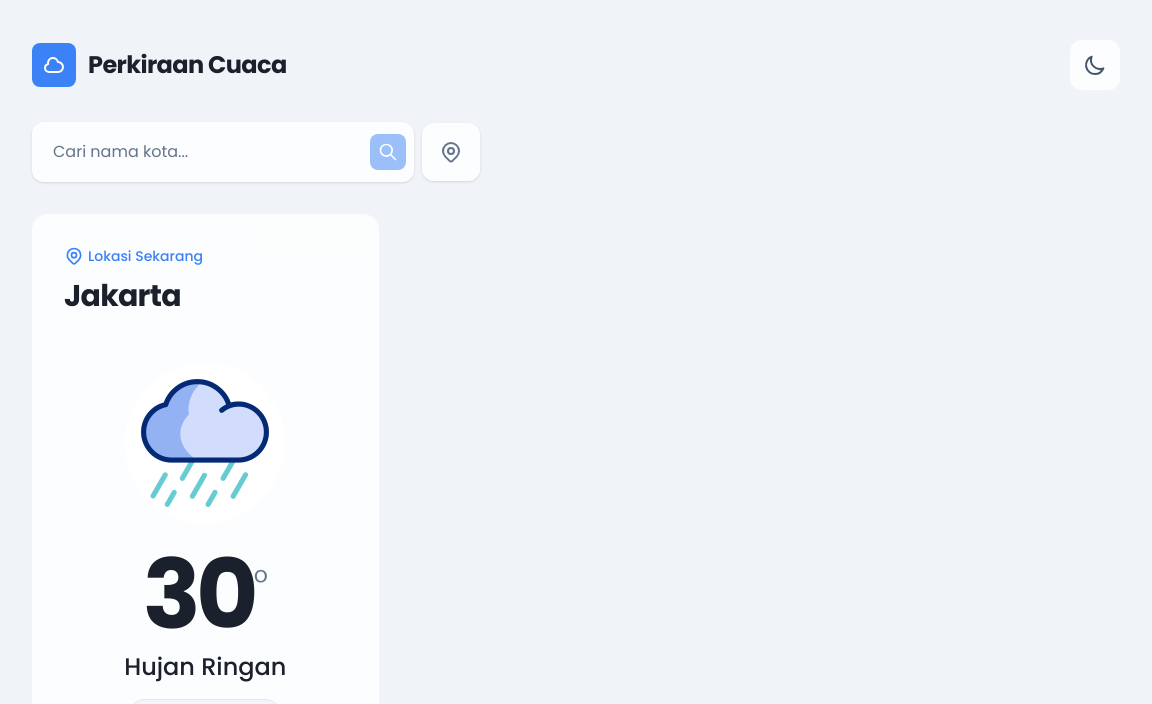
Test: Weather App Integration › shows error message when city not found
Step 1. Type "Unknown" into the field with placeholder "Cari nama kota..." → (223, 152), box [32,122,414,182]
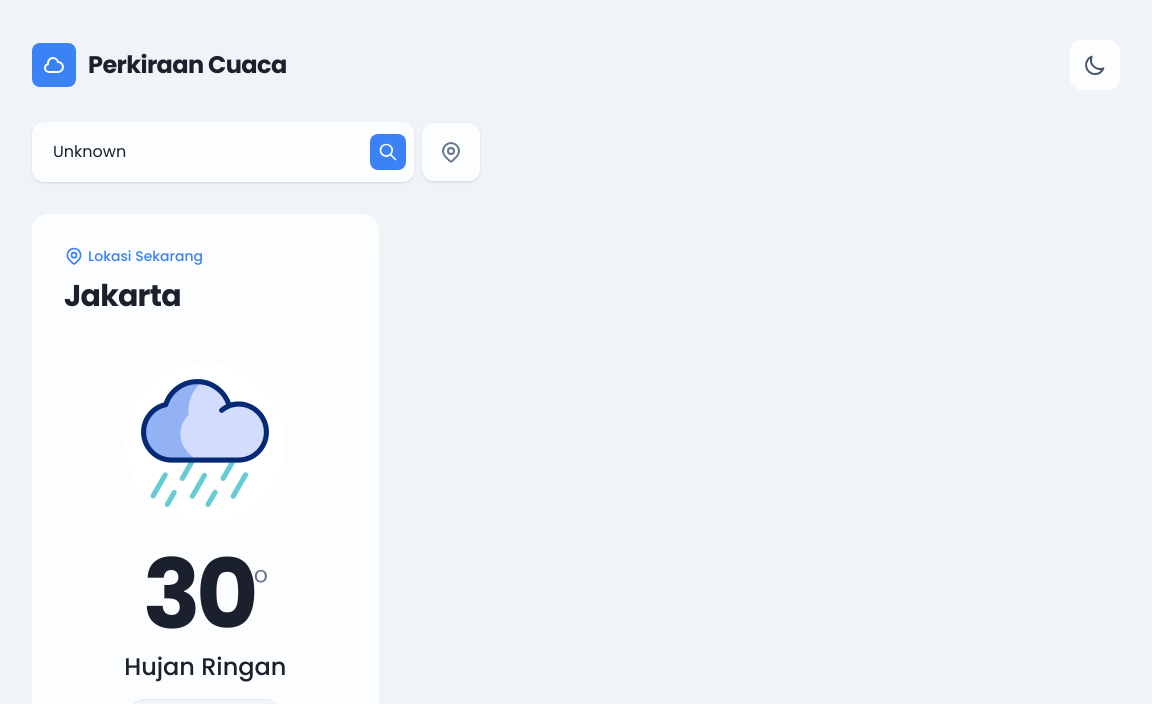
Step 2. Click the button named "Cari" → (388, 152), box [370,134,406,170]
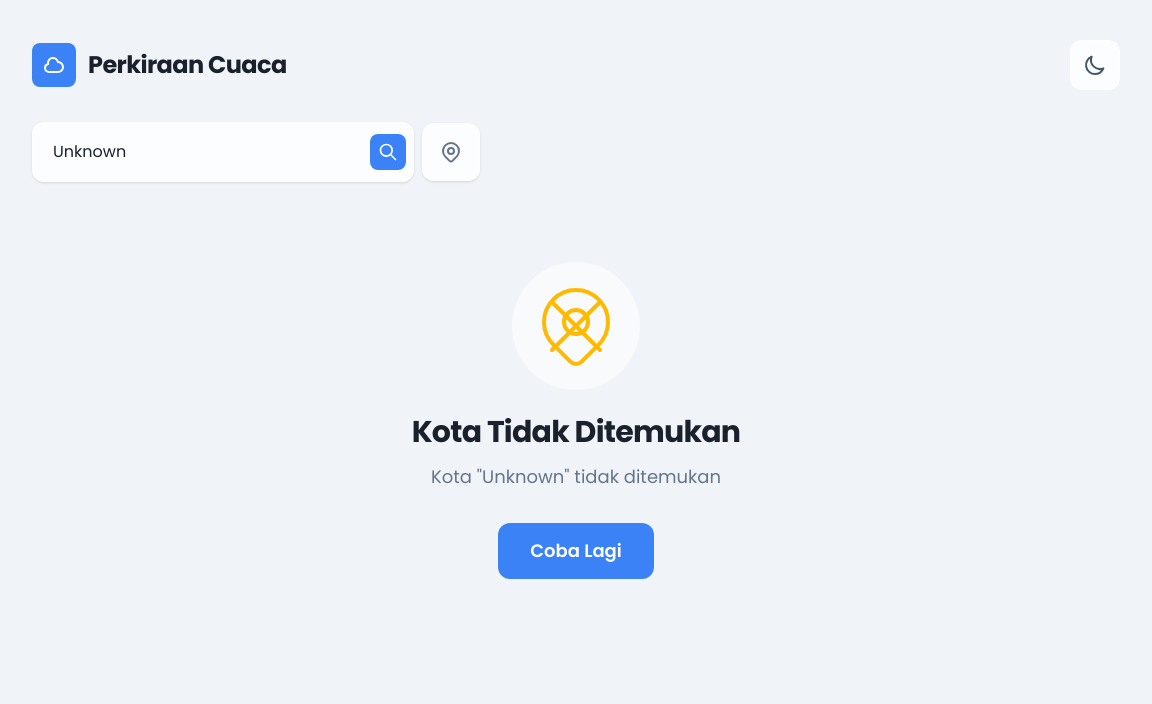
Expected: the text "Kota \"Unknown\" tidak ditemukan" is shown, [416,462,736,491]
